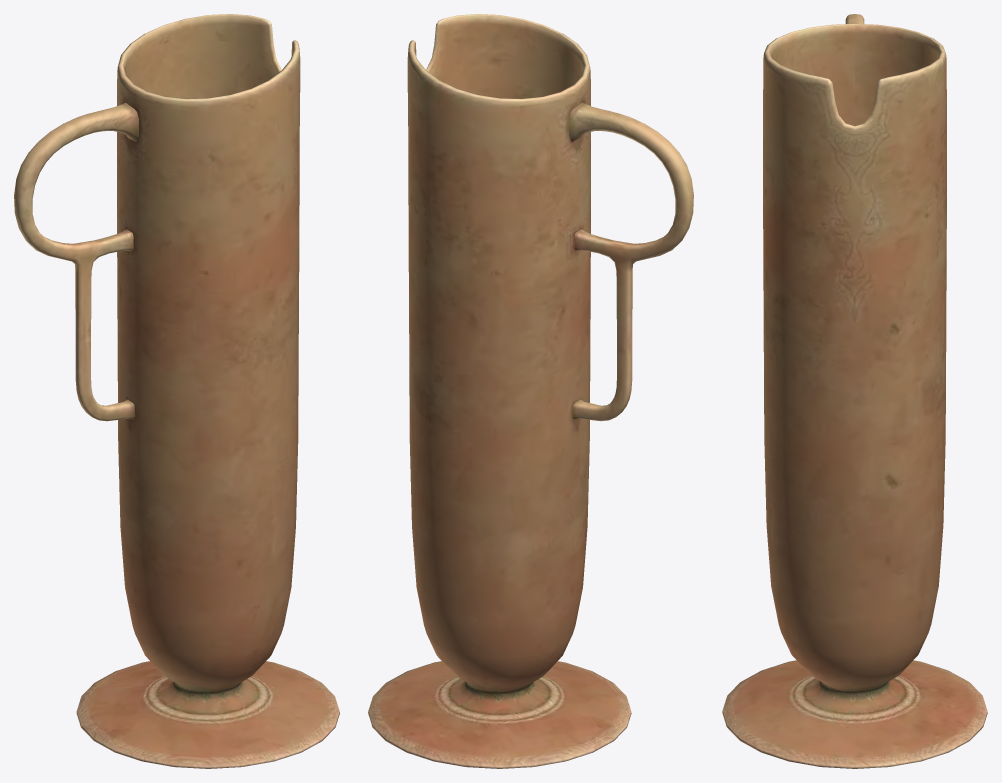
File: brass_vase_04.glb
3 renders of one model, left to right at view 1: azimuth 30°, elevation 25°; view 2: azimuth 150°, elevation 25°; view 3: azimuth 270°, elevation 25°, orthographic.
Parts seen in each view (by area): view 1: brass_vase_04; view 2: brass_vase_04; view 3: brass_vase_04.
Boxes of the visible parts, x1=… form: brass_vase_04: x1=14, y1=14, x2=339, y2=768; brass_vase_04: x1=368, y1=14, x2=693, y2=768; brass_vase_04: x1=722, y1=14, x2=987, y2=768.
Bounding box in the file's own units: 0.082 × 0.1703 × 0.0611.
1 material, 1 textured.
